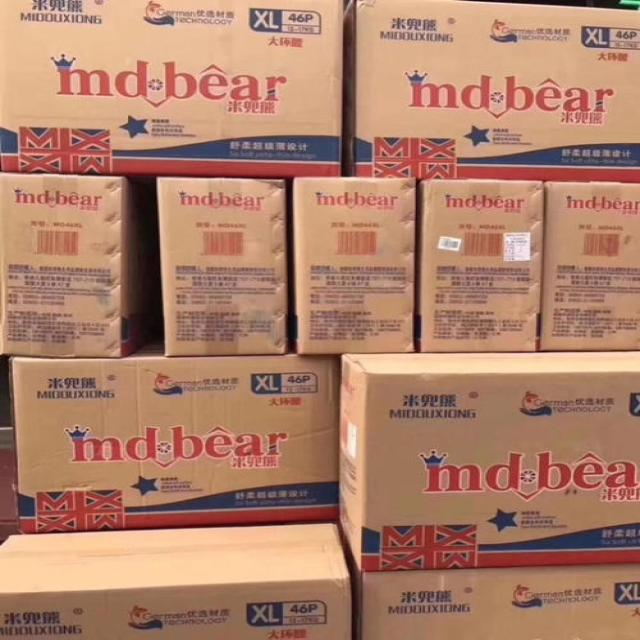box: (338, 351, 640, 571), (9, 337, 338, 533), (344, 0, 640, 181), (0, 521, 352, 640), (0, 172, 157, 359), (155, 178, 289, 357), (291, 178, 416, 355), (419, 179, 544, 351), (356, 566, 640, 640), (538, 181, 640, 350)
